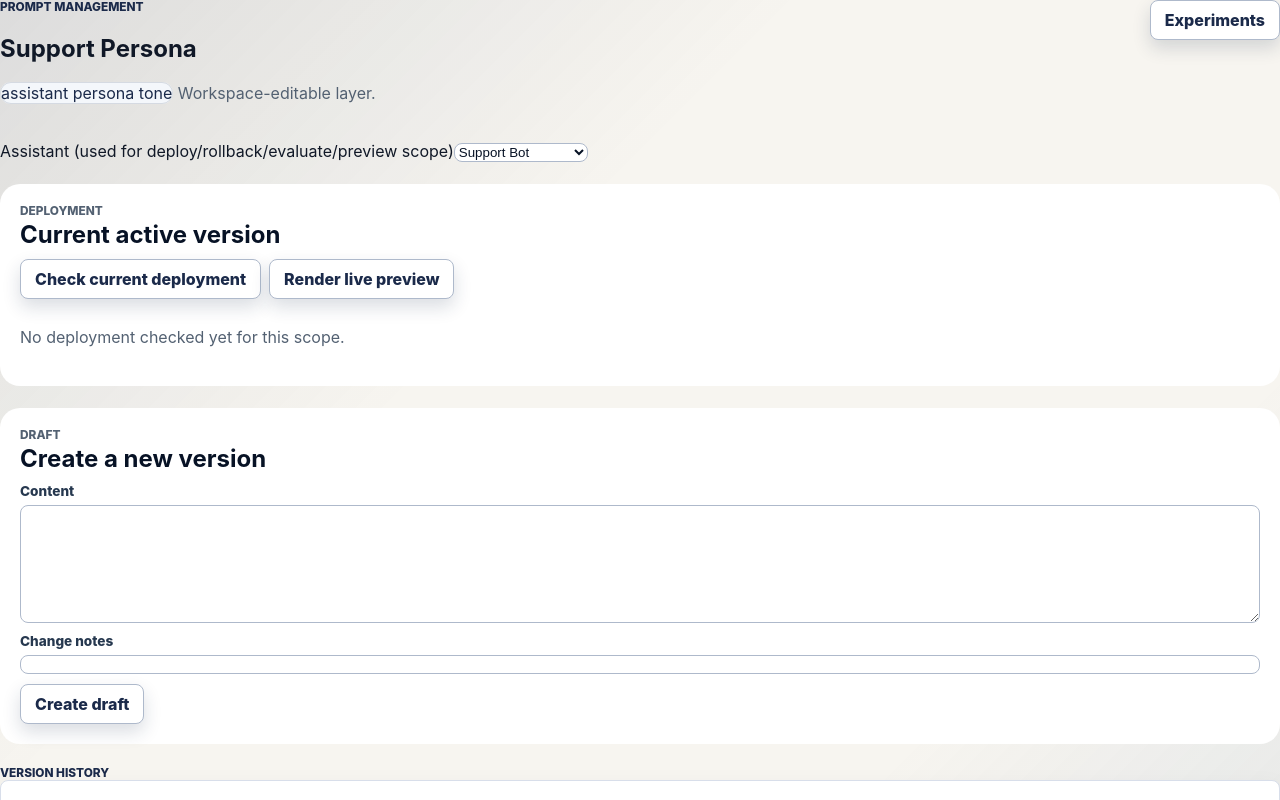
it: PromptTemplateDetailView › creates a new draft version via POST
This screenshot has width=1280, height=800.
In the text box labelled "Content": (640, 564) [20,505,1260,623], type "Be extremely formal."
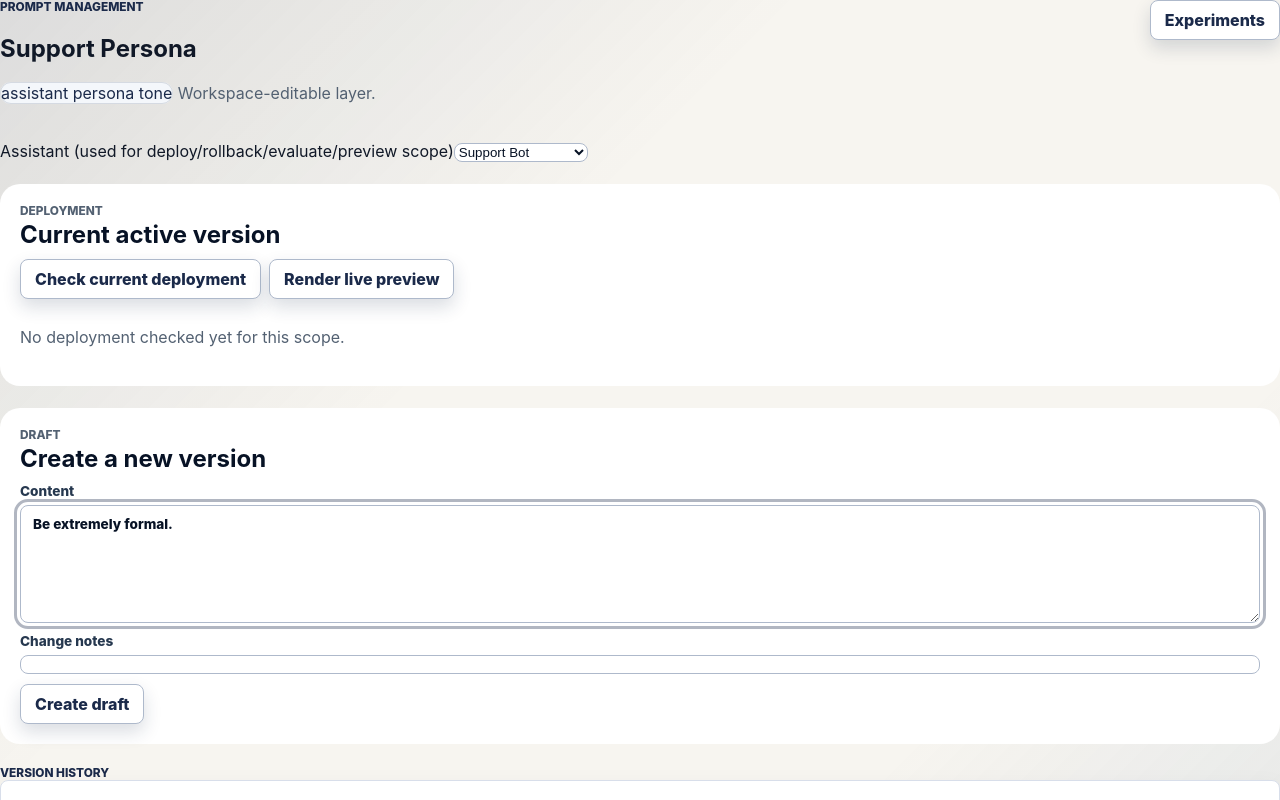
Click the button "Create draft": (82, 704) [20,684,144,724]
(page scrolled)
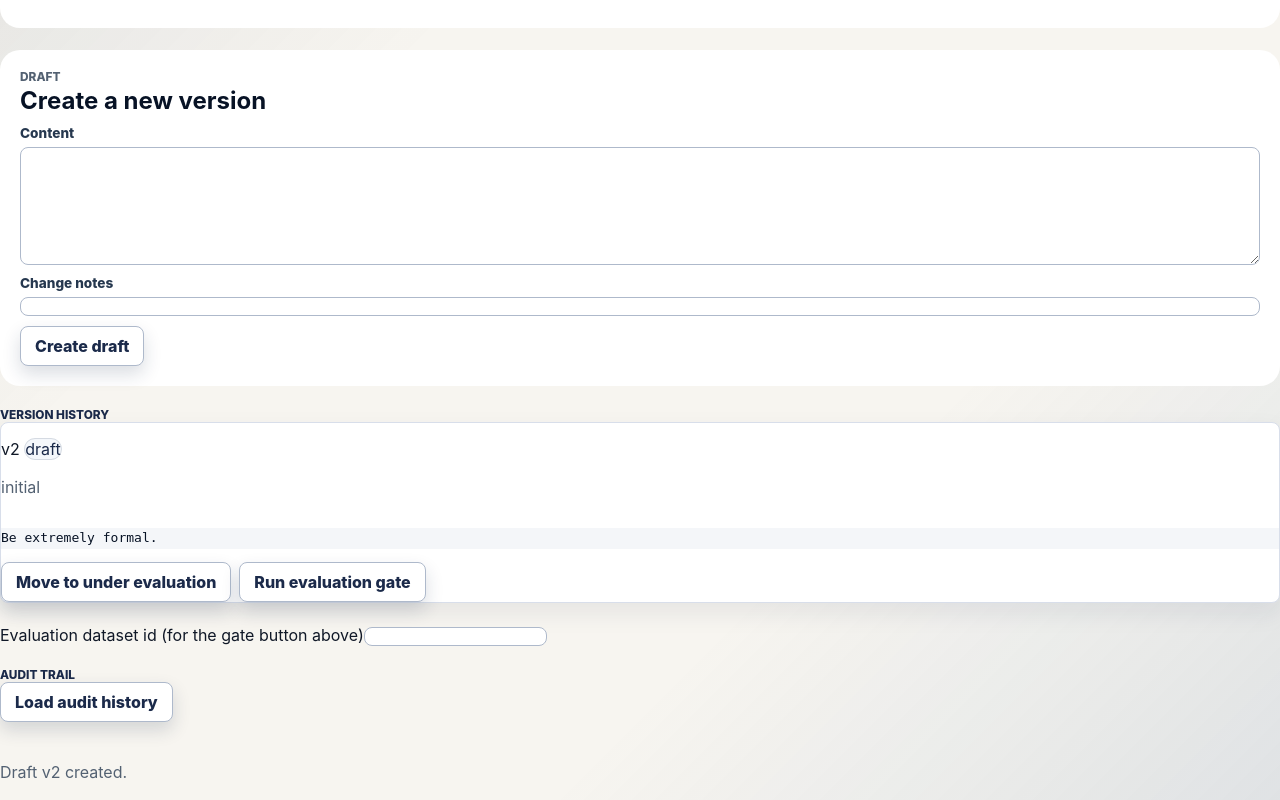
Result: the text "Draft v2 created." is shown at [0,762,127,782]
